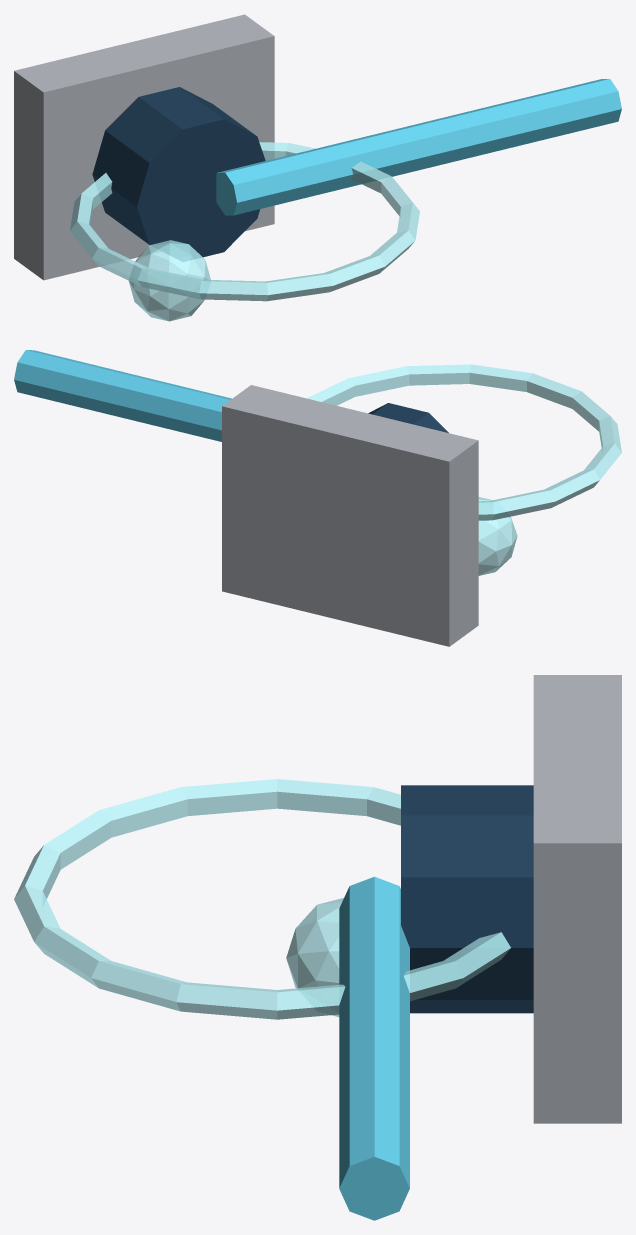
File: 09_skyship_defense.glb
3 renders of one model, top to bottom at view 1: azimuth 30°, elevation 25°; view 2: azimuth 150°, elevation 25°; view 3: azimuth 270°, elevation 25°, orthographic. The views are drawn at different scales.
Visible parts, largest first — view 1: weapon_mount_base, turret_pivot, cannon_barrel, shield_projector_ring, targeting_core; view 2: weapon_mount_base, shield_projector_ring, cannon_barrel, targeting_core, turret_pivot; view 3: weapon_mount_base, turret_pivot, shield_projector_ring, cannon_barrel, targeting_core.
Part boxes in pixels (x1,y1,x2,y2): weapon_mount_base: (14,14,274,280); turret_pivot: (92,87,265,261); cannon_barrel: (216,79,621,215); shield_projector_ring: (70,142,419,301); targeting_core: (129,240,210,321); weapon_mount_base: (222,385,478,646); shield_projector_ring: (307,364,621,520); cannon_barrel: (14,350,231,441); targeting_core: (478,497,517,575); turret_pivot: (368,403,448,432); weapon_mount_base: (533,675,621,1123); turret_pivot: (401,785,533,1013); shield_projector_ring: (14,779,510,1019); cannon_barrel: (339,876,409,1220); targeting_core: (286,898,343,1016).
Bounding box in the file's own units: 1.61 × 0.5475 × 1.03.
